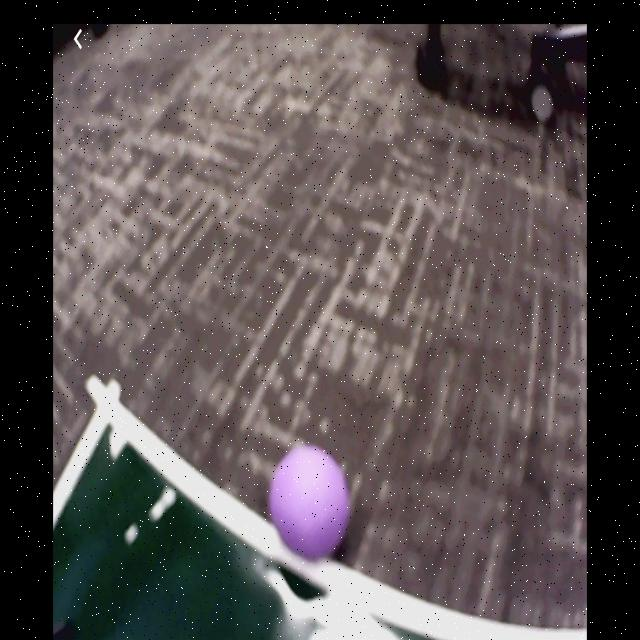ball: (269, 446, 352, 561)
